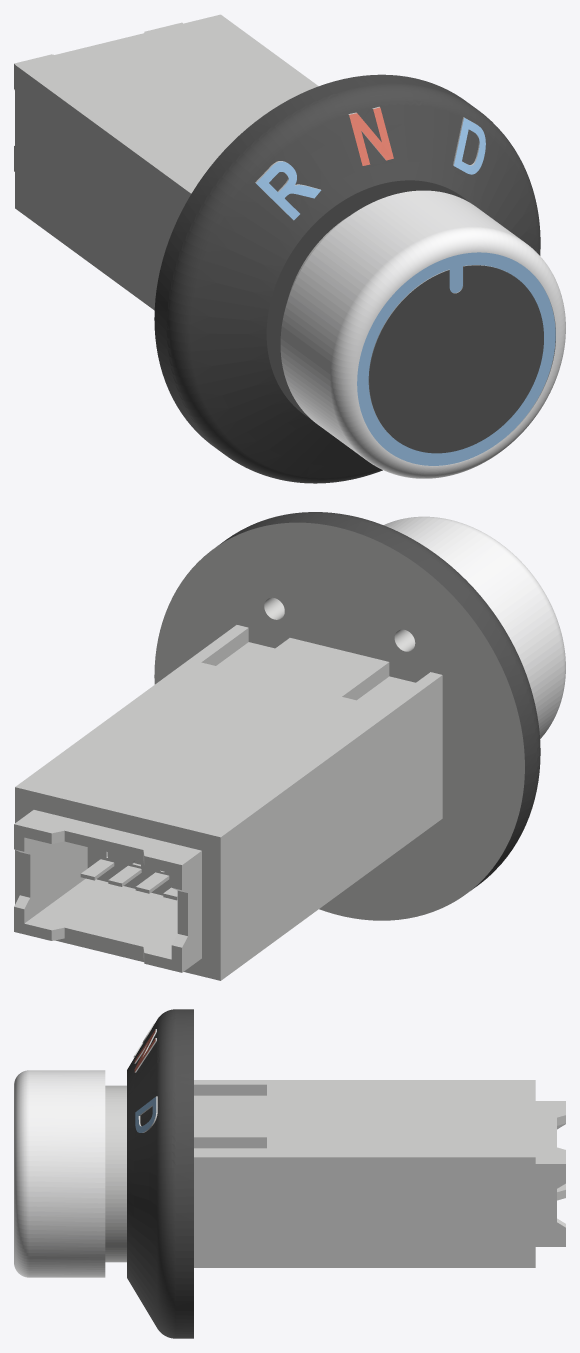
The model's file is DNRSelectorv13.glb.
3 views of the same model, one above another, from view 1: azimuth 30°, elevation 25°; view 2: azimuth 150°, elevation 25°; view 3: azimuth 270°, elevation 25° (orthographic). The views are drawn at different scales.
Visible parts, largest first — view 1: Node2, Node1, Node5, Node3, Node4; view 2: Node1, Node5, Node2; view 3: Node1, Node2, Node5.
Boxes of the visible parts, x1,y1,x2,y2 form: Node2: (154,74,543,483); Node1: (14,14,555,466); Node5: (280,190,565,478); Node3: (256,117,555,465); Node4: (349,107,393,165); Node1: (14,522,524,980); Node5: (384,516,565,738); Node2: (218,512,540,890); Node1: (105,1023,565,1267); Node2: (127,1009,193,1338); Node5: (14,1070,105,1277).
Size of the model in its own units: 54 by 54 by 90.5.
